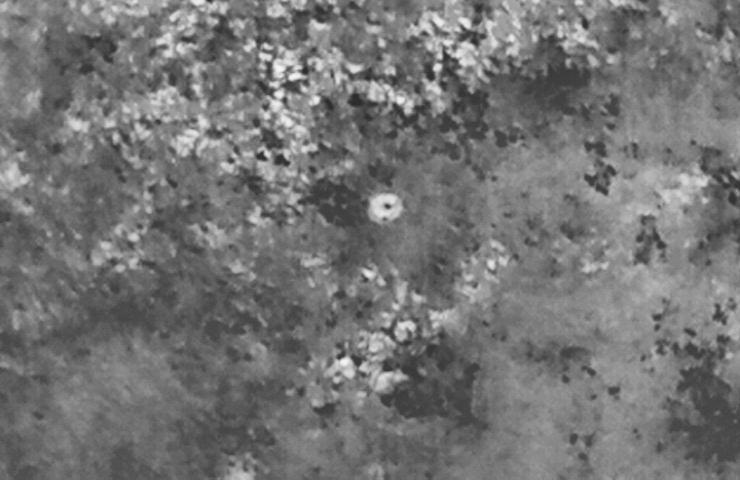landmines: (366, 189, 405, 223)
